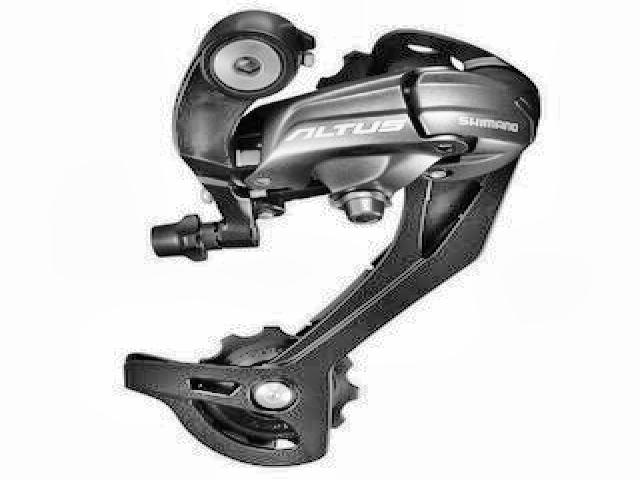rear_derailleur: (121, 4, 546, 468)
